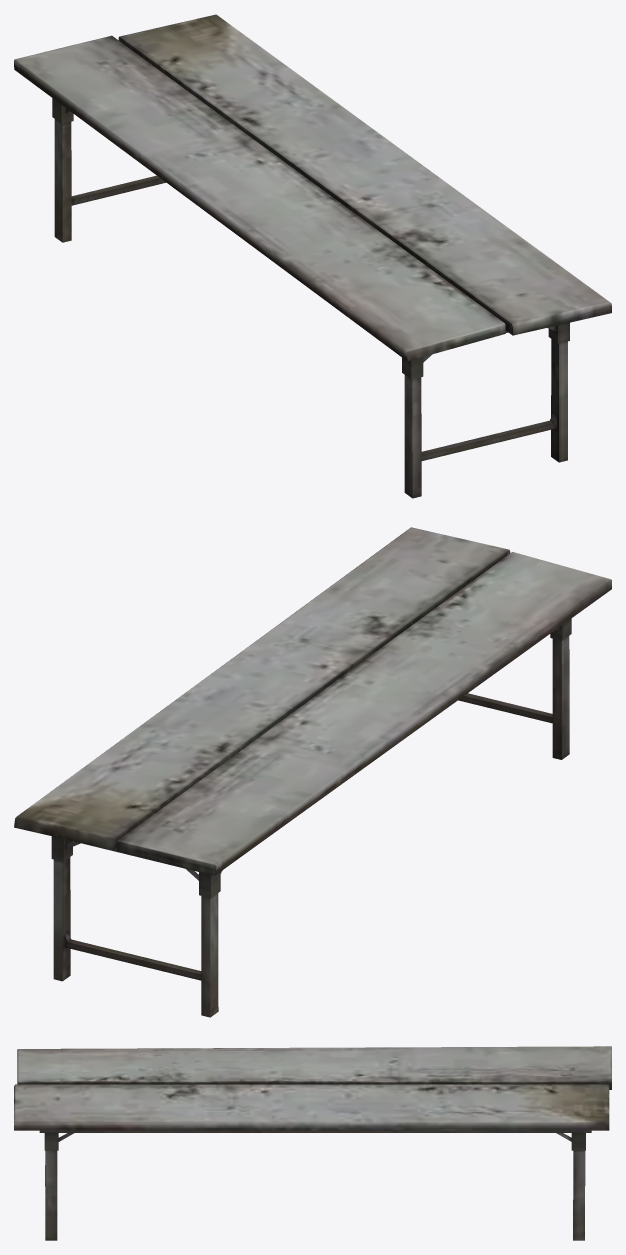
Rendered from cafeteria_table001a.glb.
3 views of the same model, one above another, from view 1: azimuth 30°, elevation 25°; view 2: azimuth 150°, elevation 25°; view 3: azimuth 270°, elevation 25° (orthographic). The views are drawn at different scales.
Visible parts, largest first — view 1: 0_cafeteria_tables01; view 2: 0_cafeteria_tables01; view 3: 0_cafeteria_tables01.
Part boxes in pixels (left/top/right/bottom): 0_cafeteria_tables01: left=14, top=14, right=611, bottom=498; 0_cafeteria_tables01: left=14, top=527, right=611, bottom=1017; 0_cafeteria_tables01: left=14, top=1046, right=611, bottom=1240.
Bounding box in the file's own units: 0.9655 × 0.7749 × 3.27.
1 material, 1 textured.
